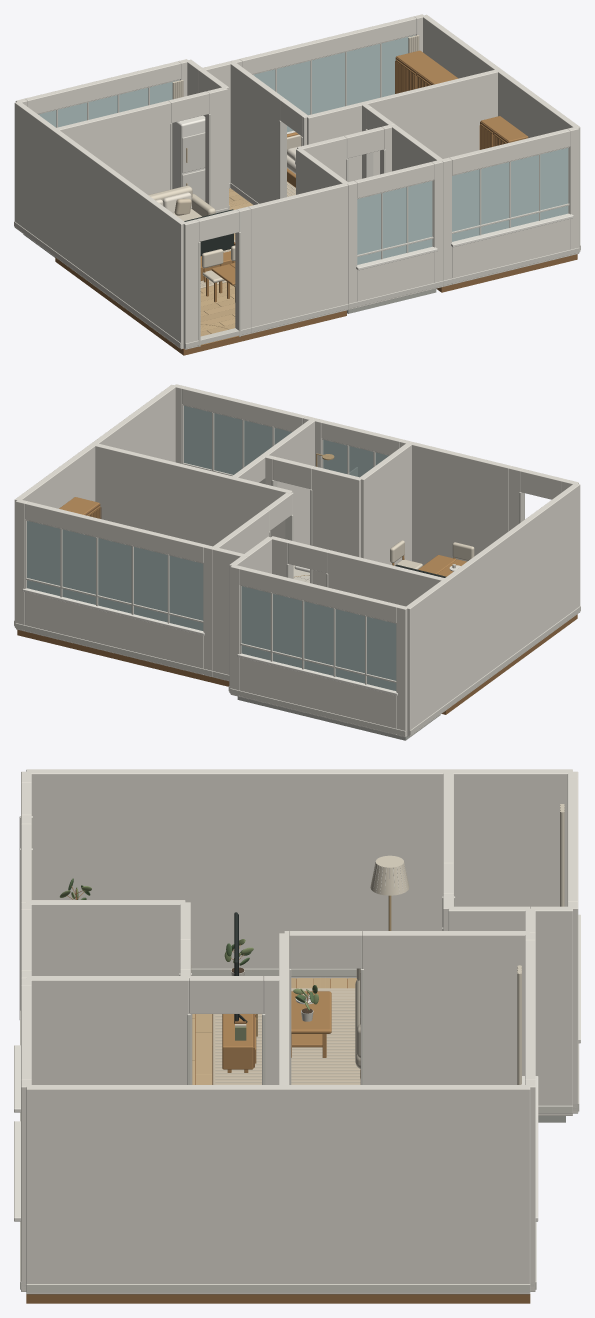
File: new-home-b.glb
The picture shows the model from 3 angles, top to bottom: view 1: azimuth 30°, elevation 25°; view 2: azimuth 150°, elevation 25°; view 3: azimuth 270°, elevation 25°; orthographic projection. The views are drawn at different scales.
Parts seen in each view (by area): view 1: Plaster wall (×28), Pale glazing (×4), Skirting board (×5), Floor underlay (×2), Door jamb (×3), Carcass (×2), Refrigerator door (×2), Stone window sill (×2), Refrigerator, Television frame, Oak door panel; view 2: Plaster wall (×29), Pale glazing (×4), Skirting board (×3), Floor underlay (×2), Stone window sill (×2), Window rail; view 3: Plaster wall (×20), Bound wool rug, Skirting board (×2), Floor underlay (×2), Carcass, Coffee tabletop, Pleated shade, Individual oak plank, Stone window sill.
Boxes of the visible parts, left/top/right/bottom form: Plaster wall (×28): left=14, top=14, right=580, bottom=349; Pale glazing (×4): left=38, top=35, right=568, bottom=264; Skirting board (×5): left=14, top=221, right=579, bottom=348; Floor underlay (×2): left=135, top=254, right=577, bottom=355; Door jamb (×3): left=205, top=114, right=286, bottom=336; Carcass (×2): left=396, top=50, right=528, bottom=142; Refrigerator door (×2): left=182, top=132, right=205, bottom=201; Stone window sill (×2): left=356, top=213, right=573, bottom=270; Refrigerator: left=172, top=115, right=205, bottom=188; Television frame: left=184, top=209, right=233, bottom=255; Oak door panel: left=395, top=59, right=415, bottom=93; Plaster wall (×29): left=14, top=384, right=580, bottom=737; Pale glazing (×4): left=27, top=406, right=396, bottom=690; Skirting board (×3): left=15, top=606, right=580, bottom=735; Floor underlay (×2): left=17, top=629, right=440, bottom=740; Stone window sill (×2): left=22, top=588, right=397, bottom=695; Window rail: left=26, top=578, right=203, bottom=622; Plaster wall (×20): left=21, top=769, right=578, bottom=1294; Bound wool rug: left=212, top=988, right=360, bottom=1084; Skirting board (×2): left=26, top=968, right=530, bottom=1292; Floor underlay (×2): left=26, top=1294, right=530, bottom=1303; Carcass: left=222, top=1014, right=253, bottom=1069; Coffee tabletop: left=291, top=991, right=331, bottom=1033; Pleated shade: left=370, top=855, right=409, bottom=895; Individual oak plank: left=195, top=1032, right=211, bottom=1074; Stone window sill: left=14, top=1121, right=20, bottom=1221.
Bounding box in the file's own units: 8.54 × 2.69 × 6.38.
